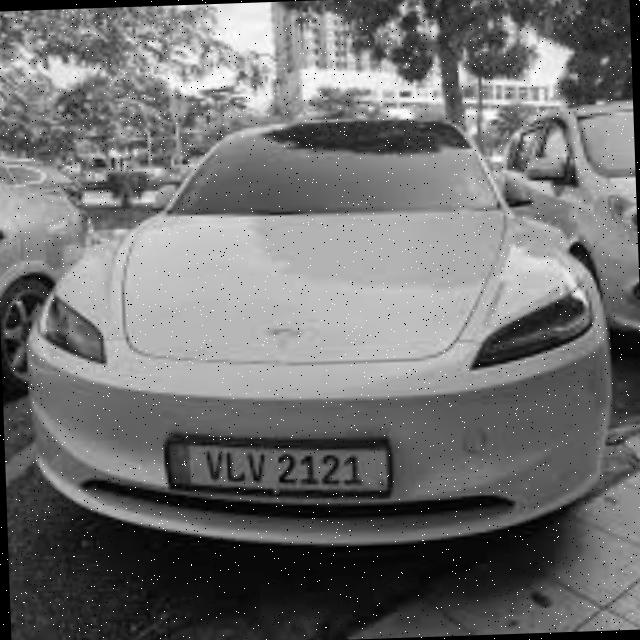License_Plate: (162, 426, 394, 507)
car: (18, 108, 618, 557)
